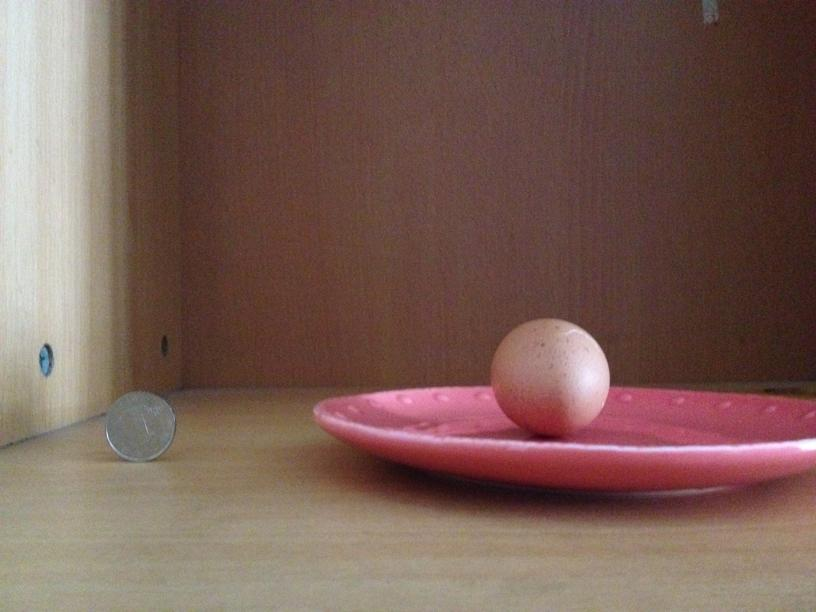coin: (106, 391, 175, 462)
egg: (487, 317, 610, 435)
